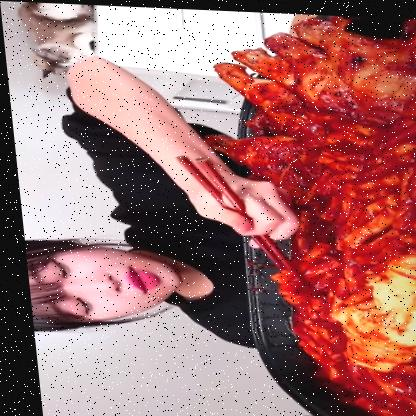streamer: (4, 51, 307, 348)
